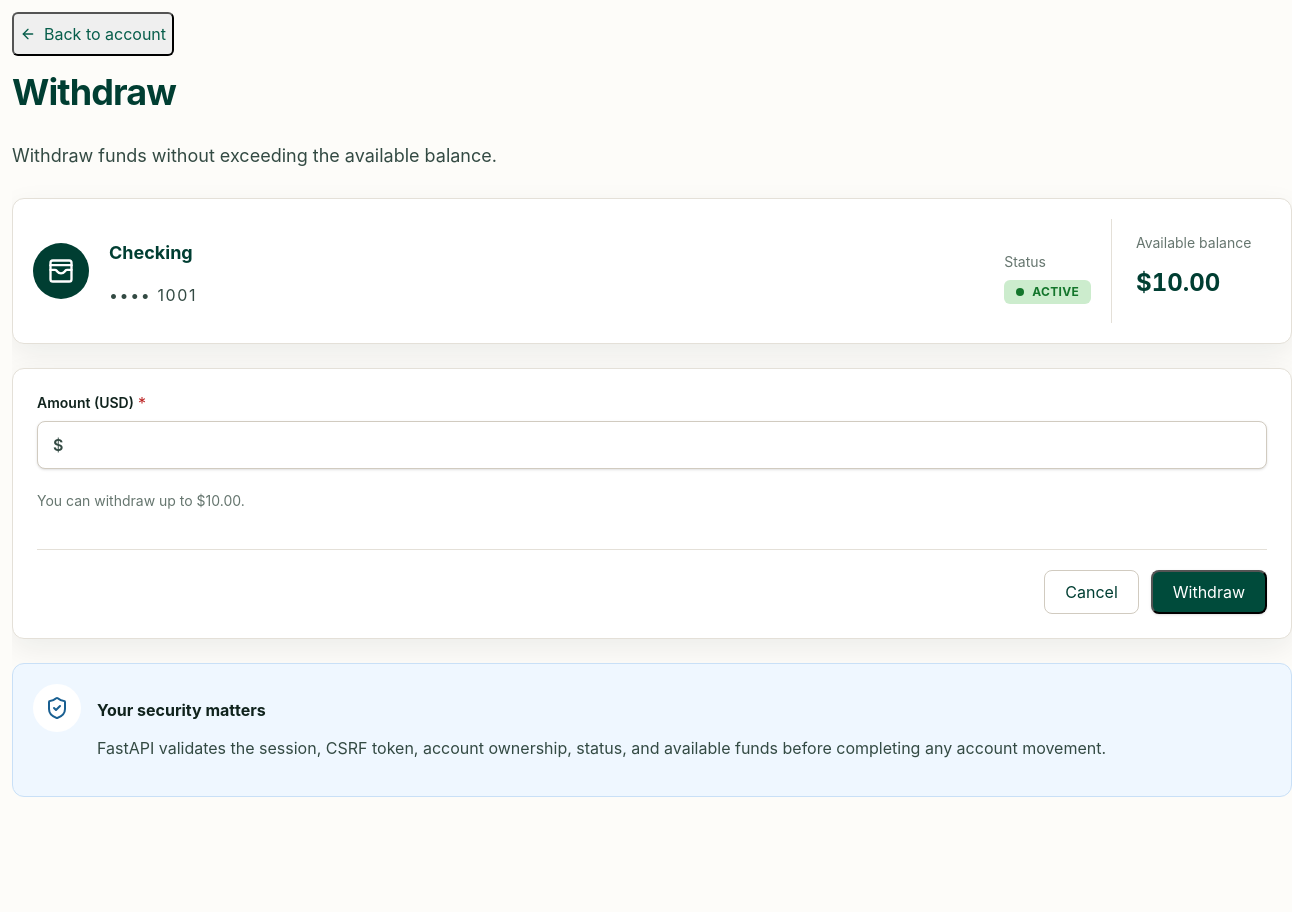
Test case: rejects a withdrawal above the exact available balance
The width and height of the screenshot is (1292, 912).
In the field labelled "Amount (USD)": (652, 445) [37,421,1267,469], type "10.01"
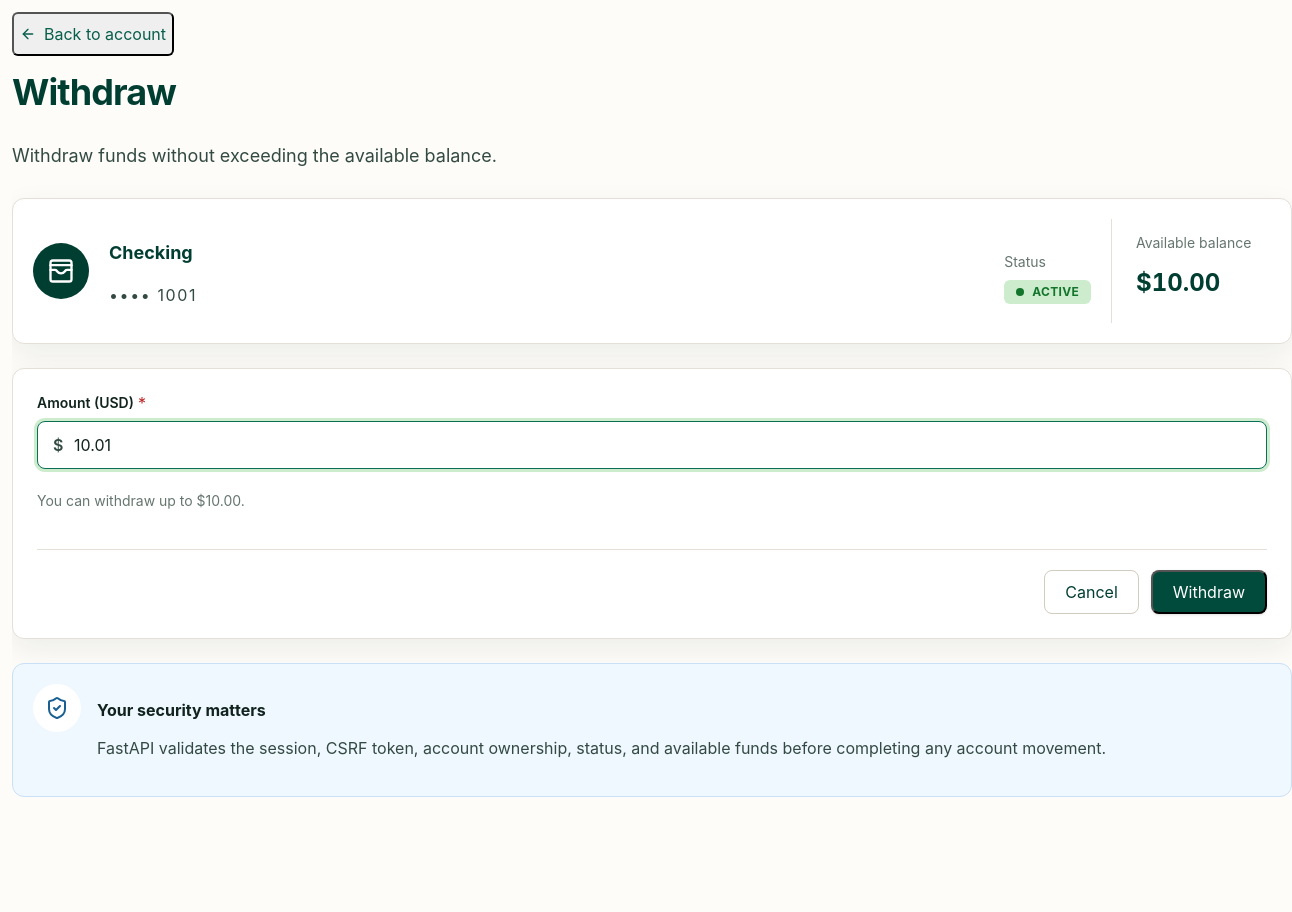
Click the button "Withdraw": (1209, 592) [1151,570,1267,614]
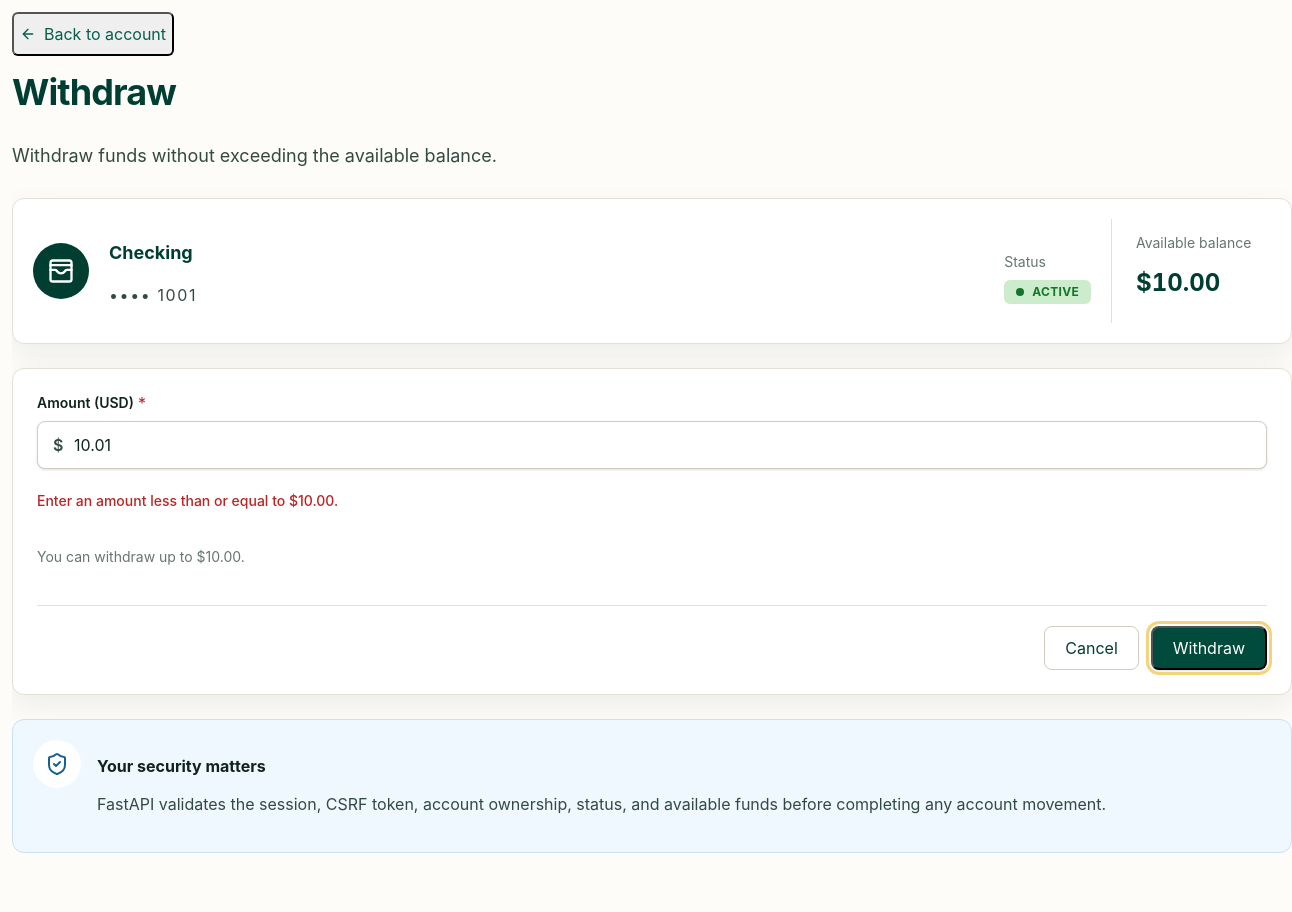
Now the message shows "less than or equal to $10.00", box [37,492,338,509]
